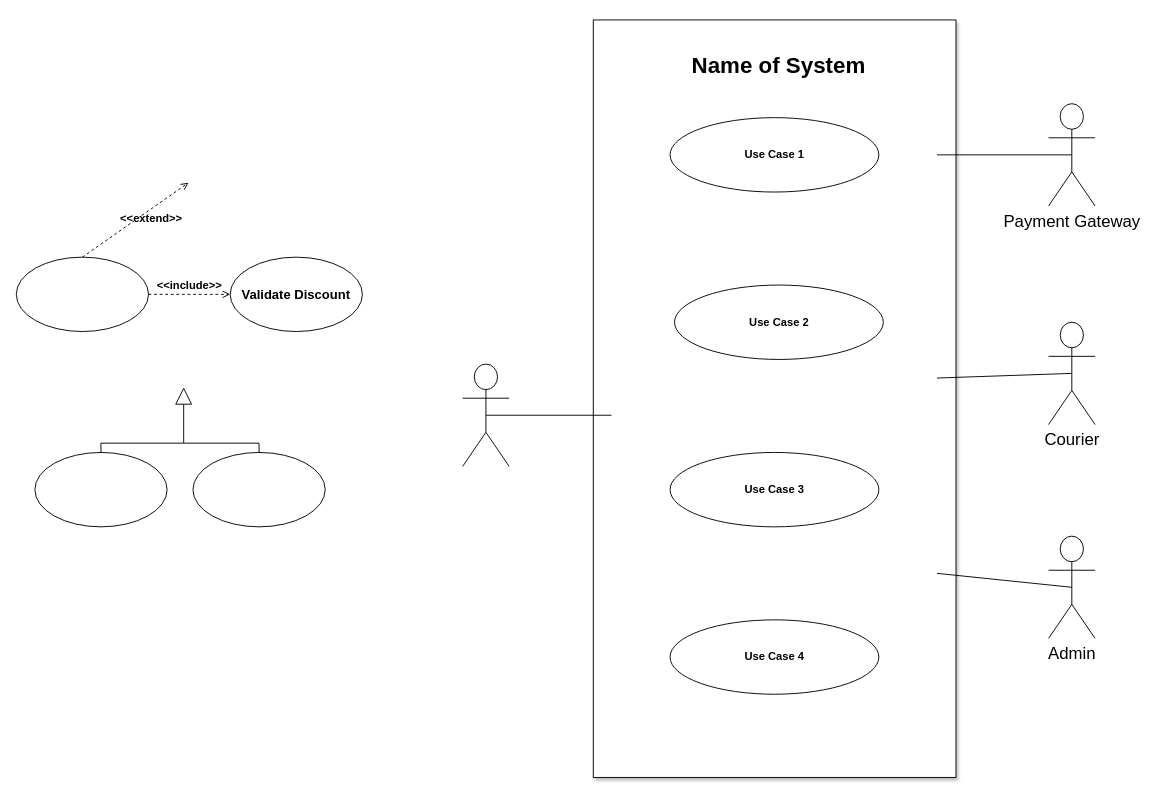
This 1156x800 diagram has some shape labels left out. Each missing label, with the centre of its shape:
Apply Discount Code: point (82, 294)
Customer: point (485, 414)
Refund Product: point (100, 489)
Warranty Claim: point (258, 489)
